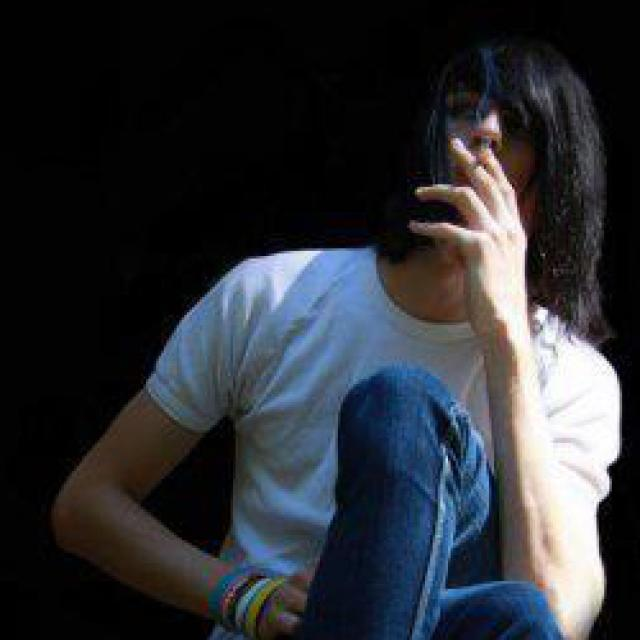Smooking: (472, 131, 492, 158)
